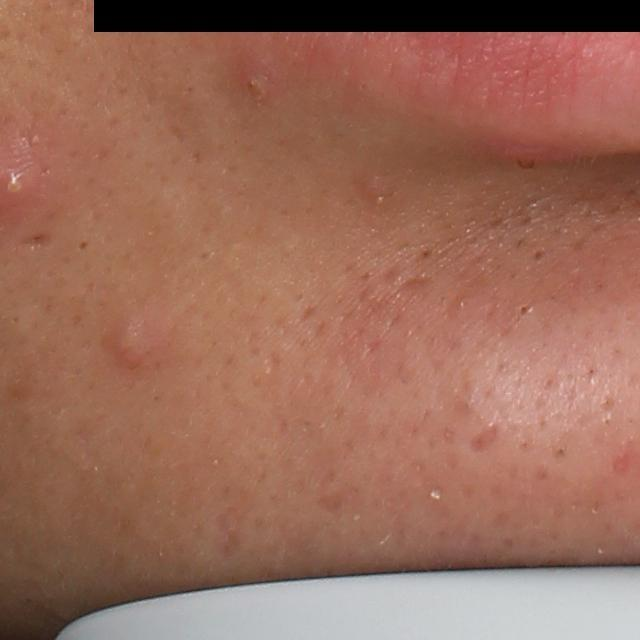atrophic_scar: (467, 420, 502, 457), (20, 231, 54, 249)
comedo: (71, 237, 92, 256), (514, 298, 535, 316), (531, 247, 548, 264)
papule: (92, 318, 165, 367)
